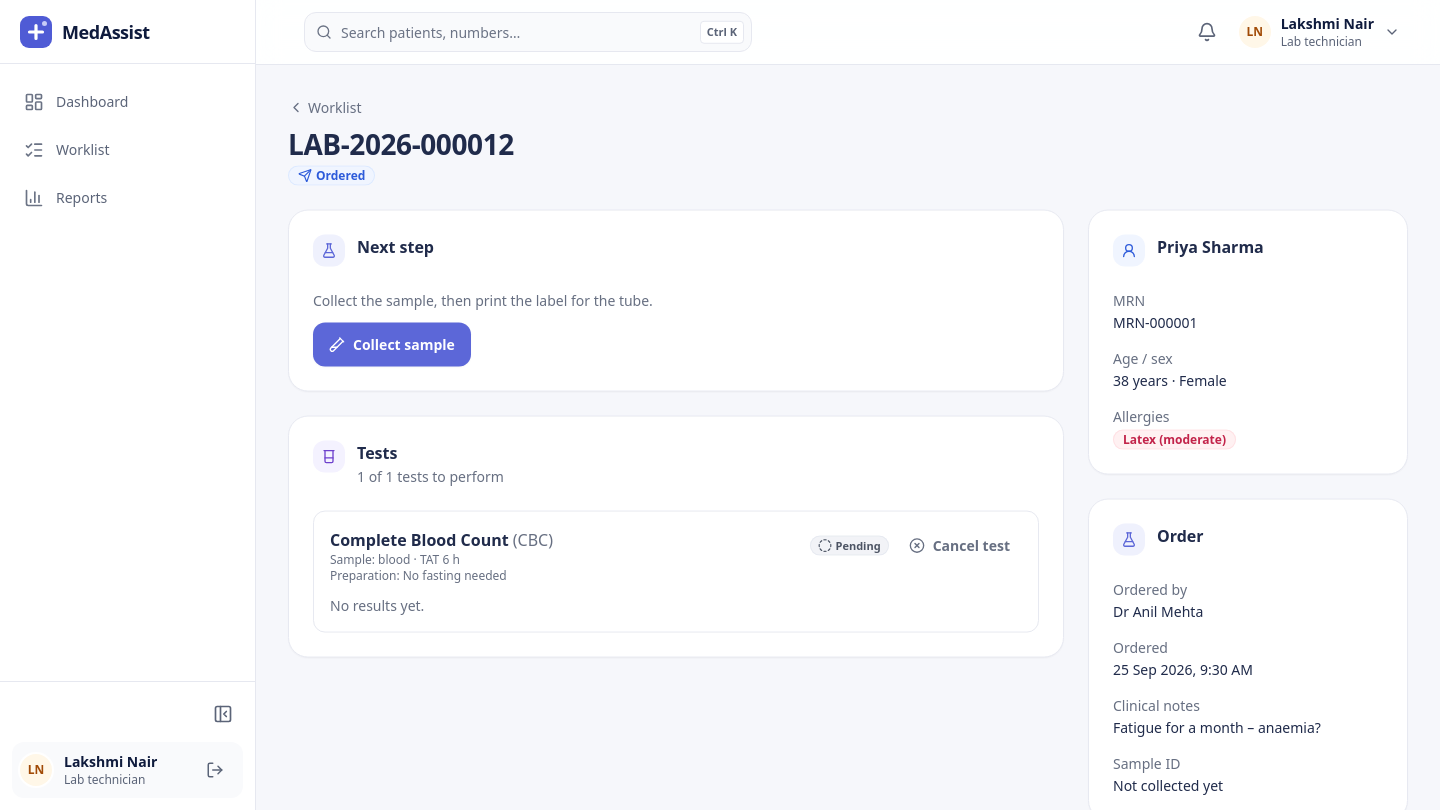
it: lab order page › collect sample → the label page with the sample ID
This screenshot has width=1440, height=810.
Click the button "Collect sample": (392, 344) [313,322,471,366]
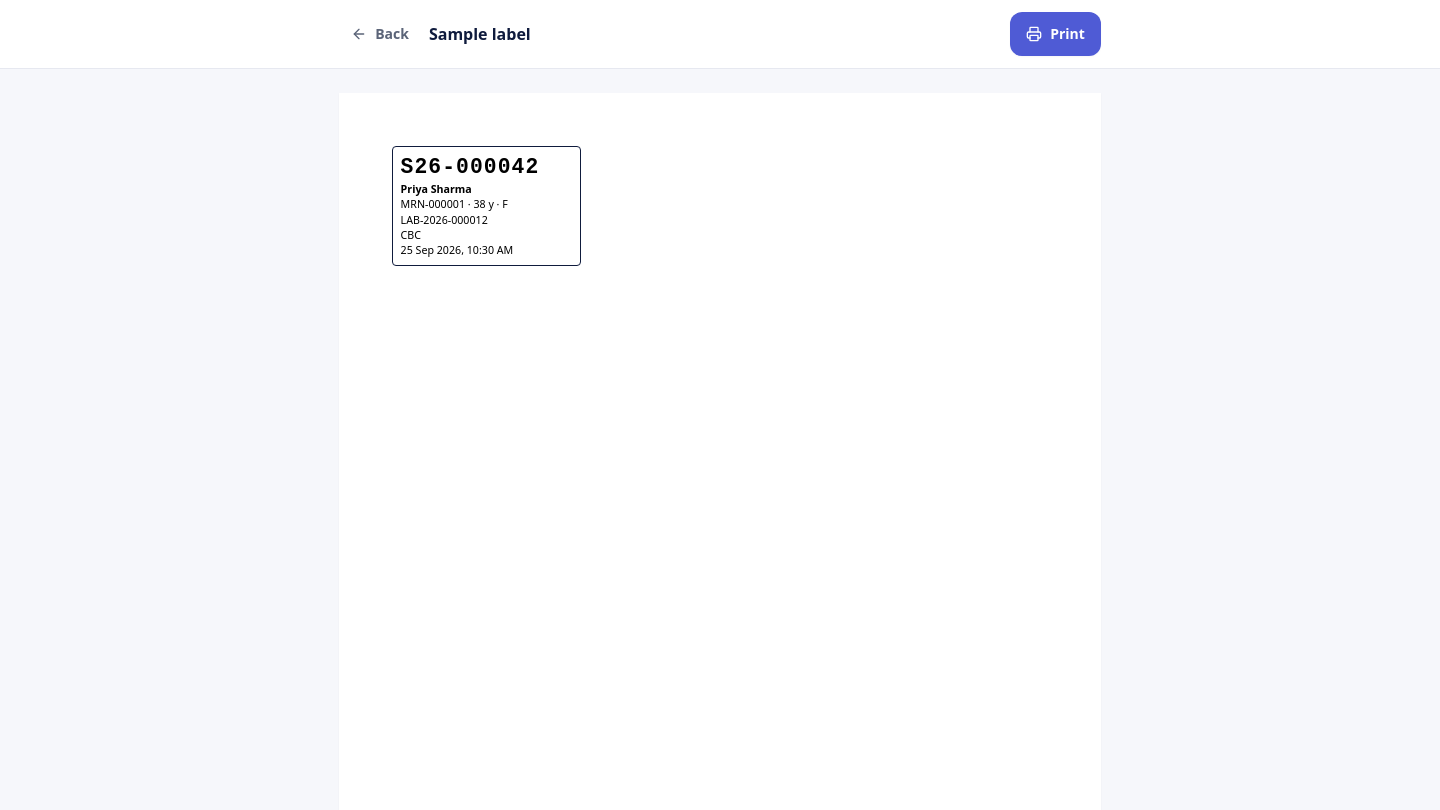
Check: the element named "Sample label" shows "S26-000042", box [401,156,539,180]
Check: the element named "Sample label" shows "Priya Sharma", box [401,182,472,196]
Check: the element named "Sample label" shows "MRN-000001", box [401,197,465,211]
